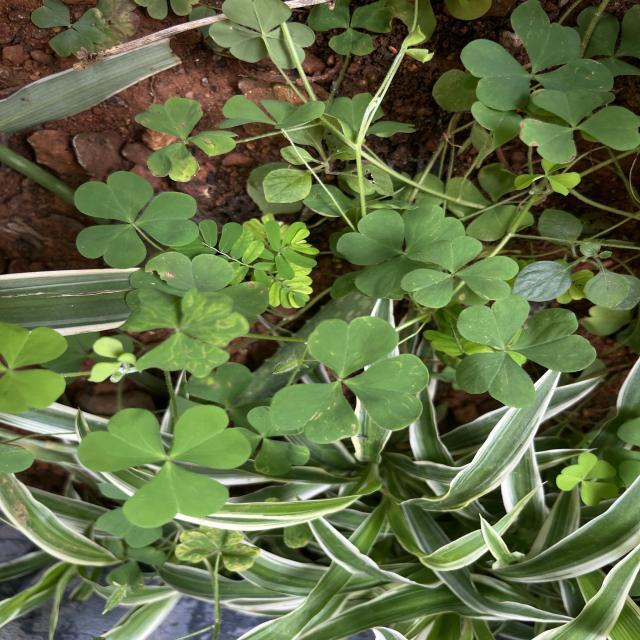Oxalis corniculata: (76, 404, 252, 528), (268, 314, 432, 446), (454, 294, 598, 410), (72, 170, 200, 270), (118, 286, 252, 378), (133, 96, 240, 184), (400, 234, 520, 310), (517, 90, 640, 164), (0, 319, 70, 416), (555, 451, 620, 508)
